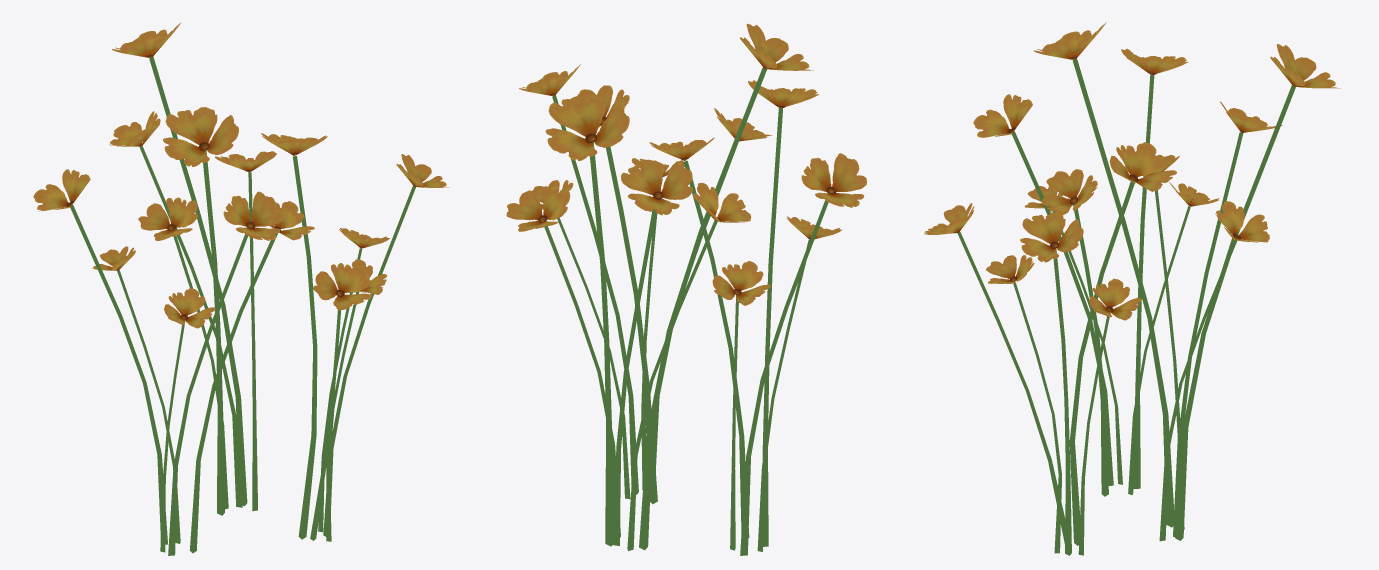
The model's file is SM_Flower_07_03.fbx.
The picture shows the model from 3 angles, left to right: view 1: azimuth 30°, elevation 25°; view 2: azimuth 150°, elevation 25°; view 3: azimuth 270°, elevation 25°; orthographic projection. The views are drawn at different scales.
Parts seen in each view (by area): view 1: SM_Flower_07_03_LOD0; view 2: SM_Flower_07_03_LOD0; view 3: SM_Flower_07_03_LOD0.
Boxes of the visible parts, left/top/right/bottom form: SM_Flower_07_03_LOD0: left=33, top=22, right=449, bottom=555; SM_Flower_07_03_LOD0: left=506, top=23, right=866, bottom=555; SM_Flower_07_03_LOD0: left=924, top=22, right=1340, bottom=555.
Size of what is drawn, in the model's own units: 56.67 by 65.02 by 54.76.
